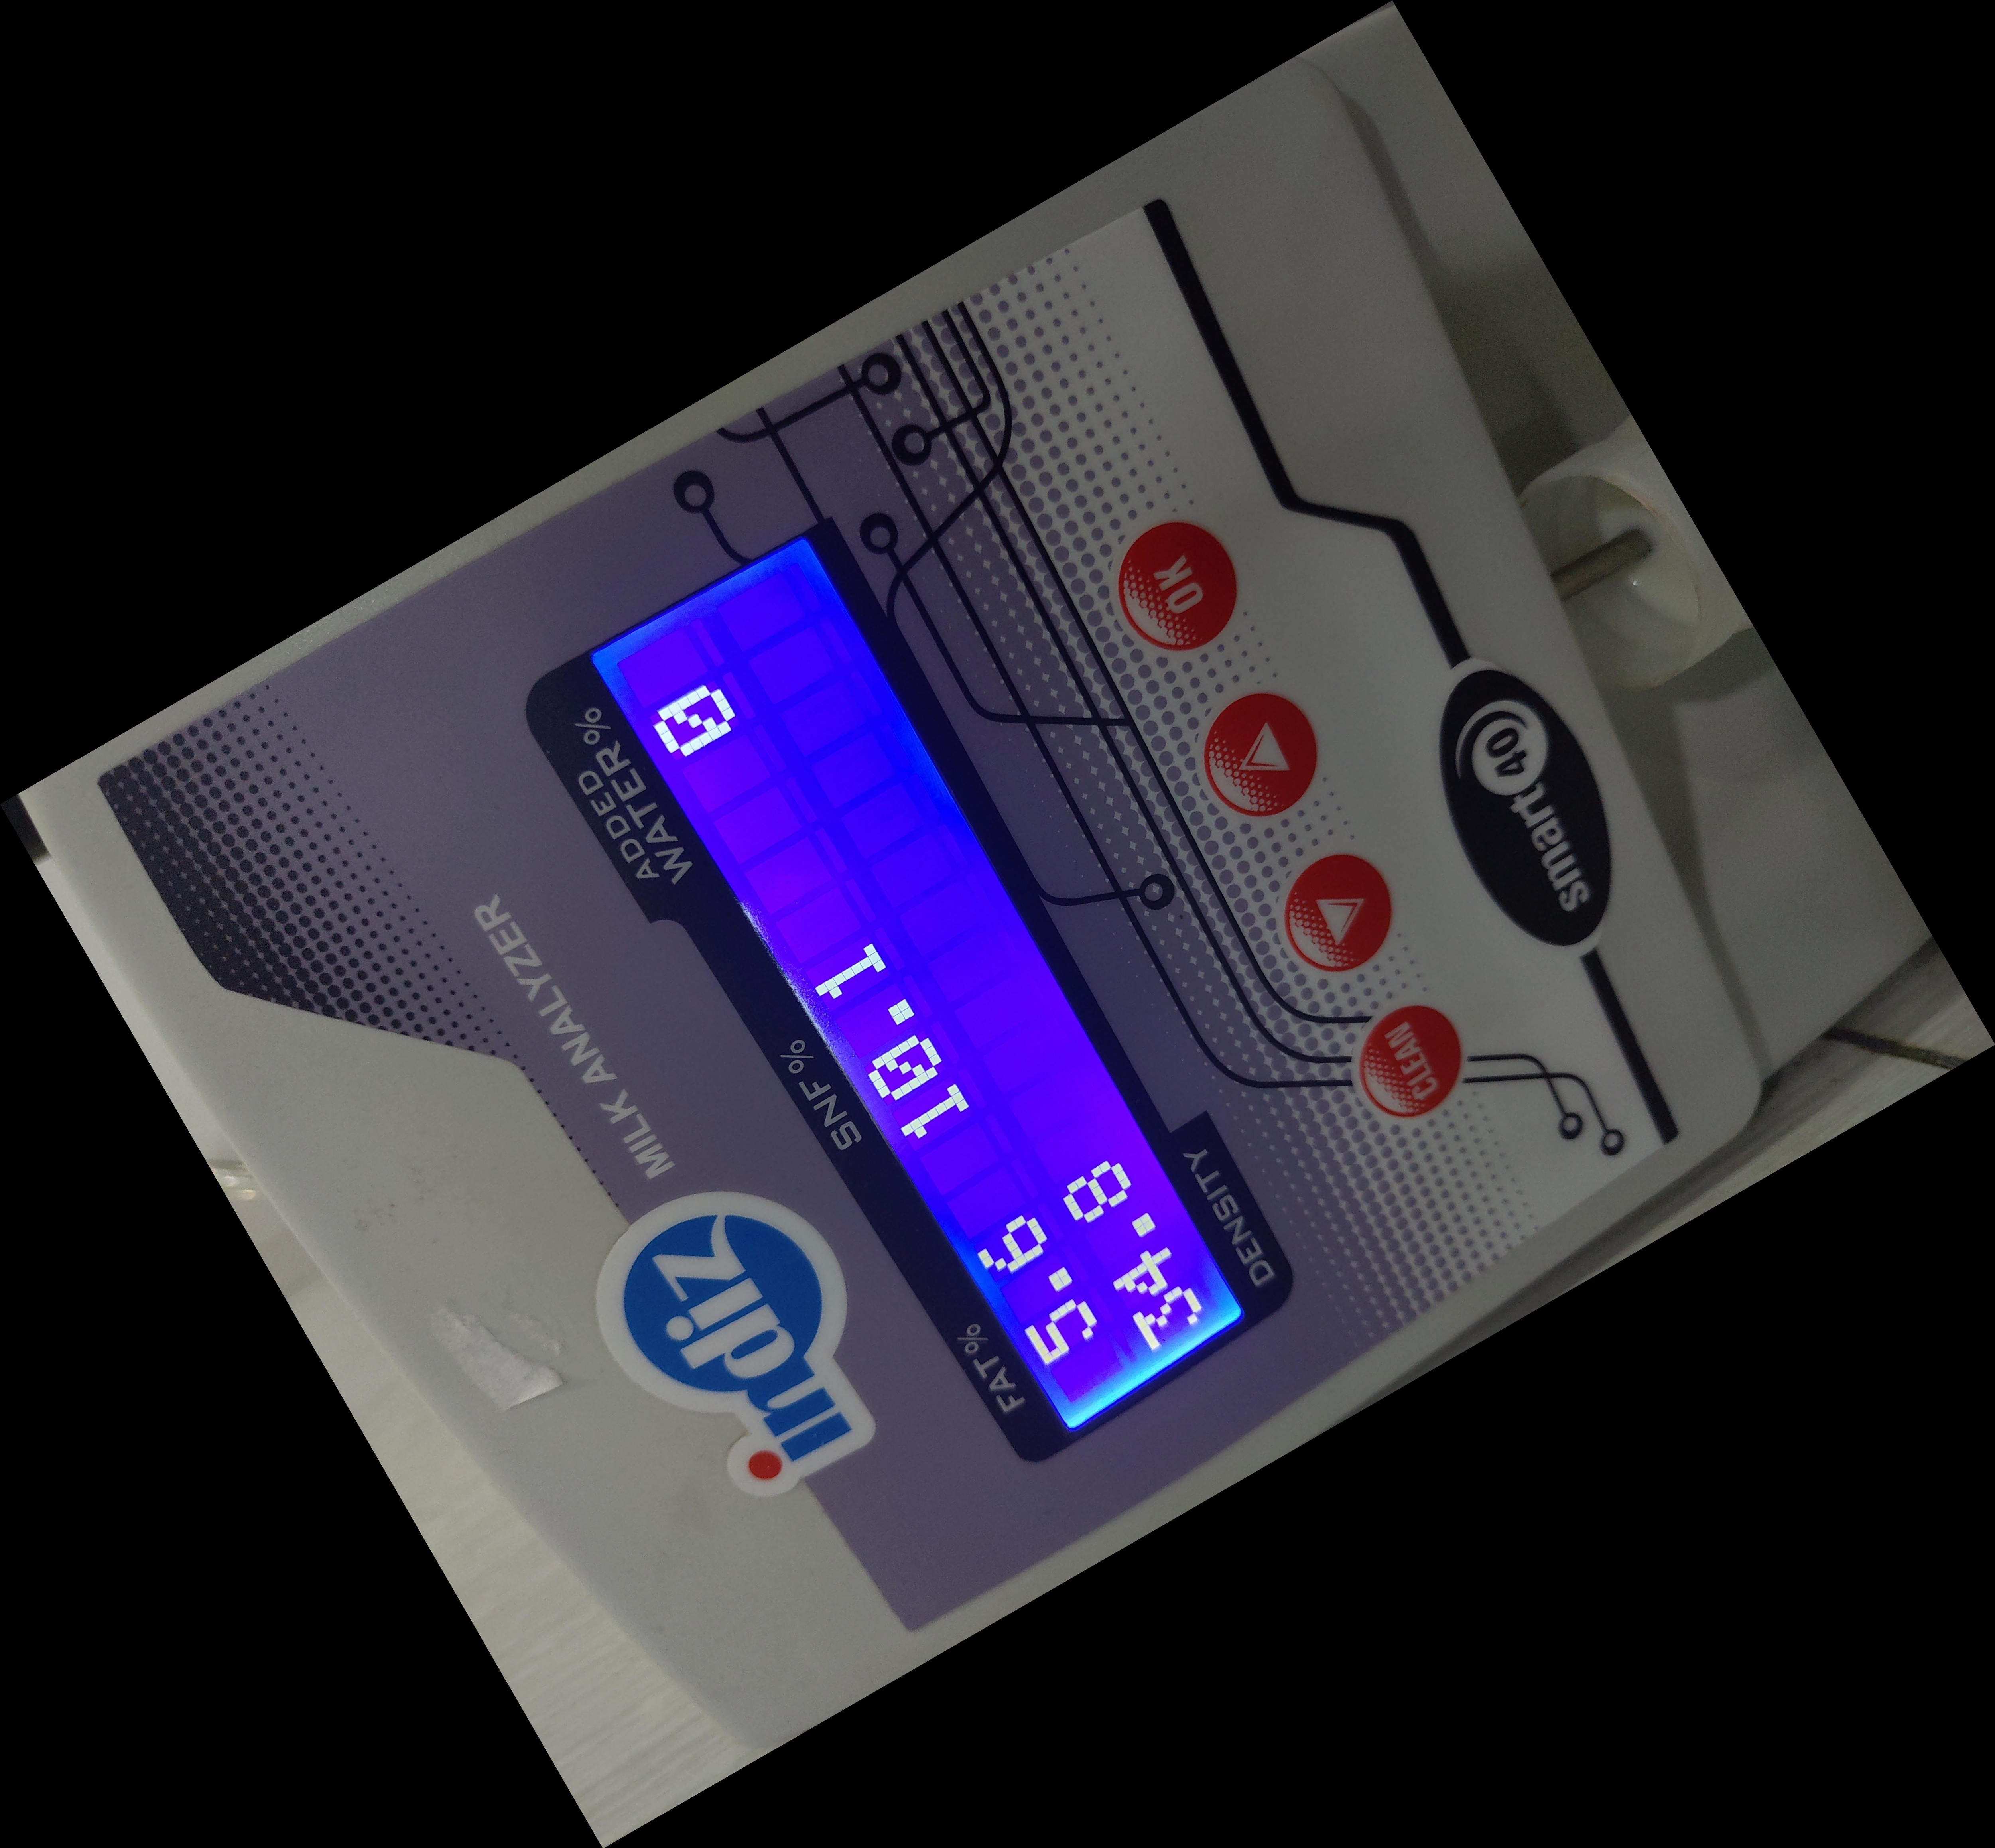lcd: (572, 530, 1284, 1474)
